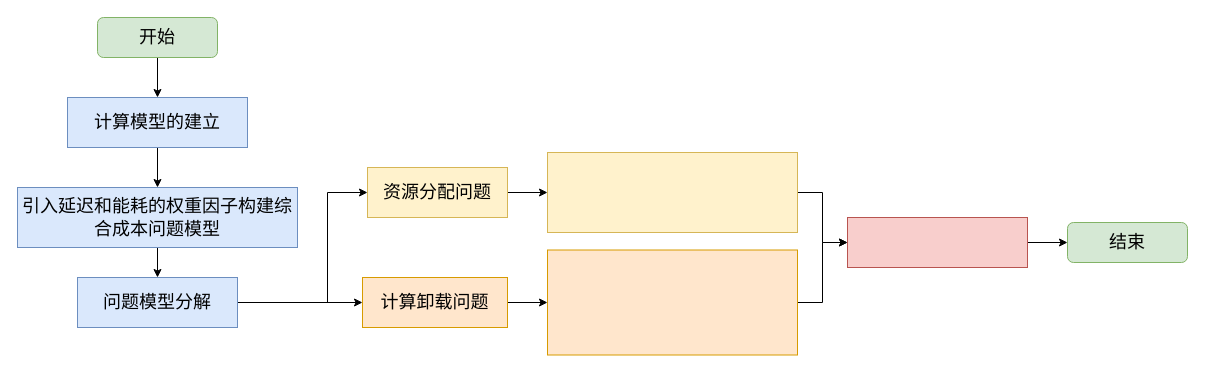
Image size: 1205x373. Some labels were removed from this diagram. Here are the shapes that lost their labels. From the top down, the centre of each, then its label:
At (672,192): "根据数学变化转化成凸优化问题用凸优化工具解决".
At (937,242): "交替优化寻找最优解".
At (672,302): "将离散粒子群优化算法与混沌映射和柯西变异相结合，并基于变量更新动态调整权值和学习因子来进行优化".
